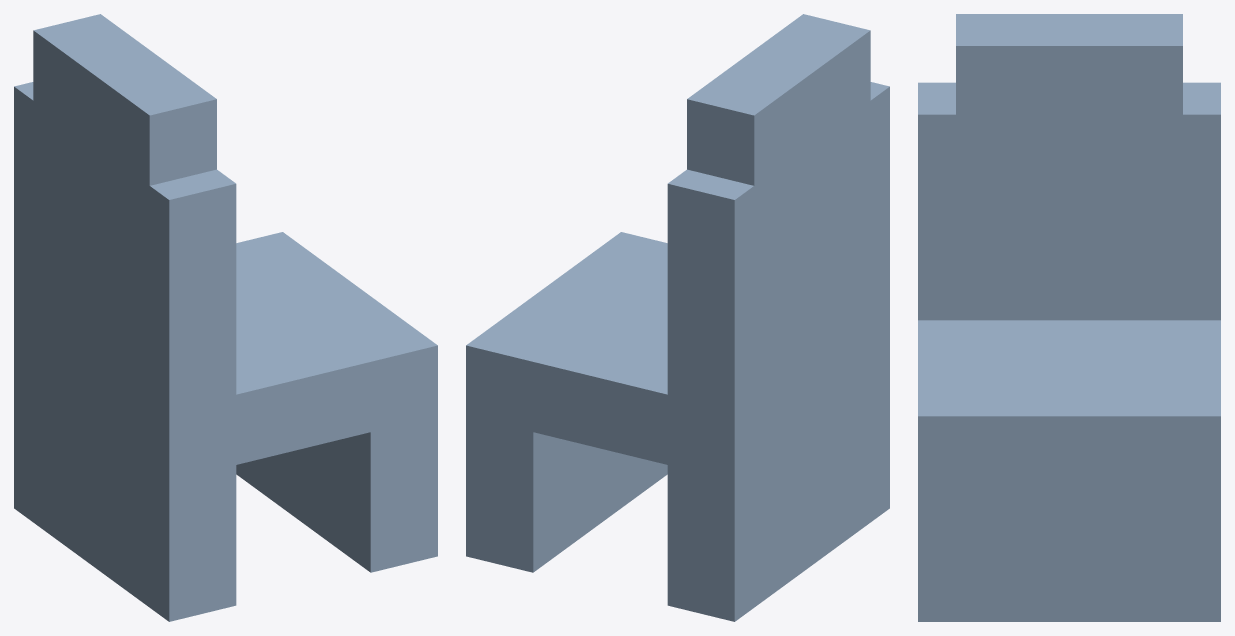
File: stone-chair.obj
3 views of the same model, side by side, from view 1: azimuth 30°, elevation 25°; view 2: azimuth 150°, elevation 25°; view 3: azimuth 270°, elevation 25° (orthographic). The views are drawn at different scales.
Size of the model in its own units: 4 by 7 by 4.
1 material, 1 textured.
